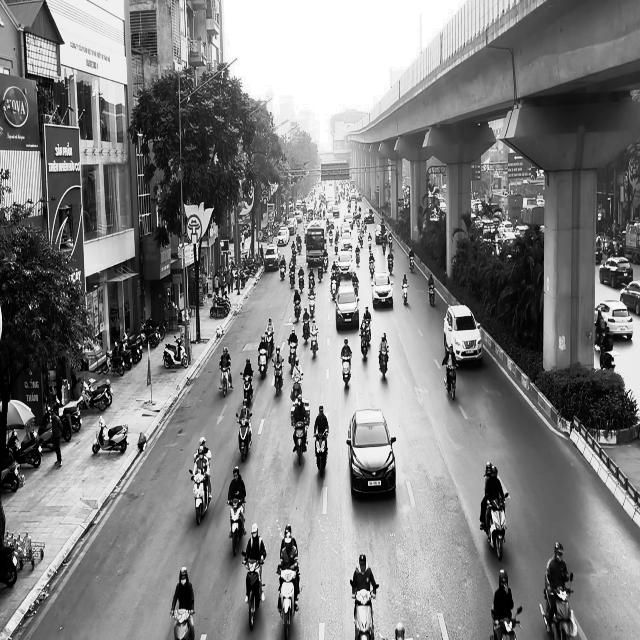car: (346, 408, 396, 498), (371, 271, 394, 308)
motorbike: (540, 572, 577, 639), (242, 556, 266, 630), (276, 565, 300, 639), (482, 492, 508, 560), (350, 579, 378, 639), (92, 416, 129, 455), (188, 468, 212, 526), (227, 496, 246, 556), (490, 606, 522, 640), (235, 411, 252, 462), (594, 329, 615, 370), (291, 418, 308, 466), (170, 608, 195, 639), (314, 430, 328, 477), (443, 362, 457, 400), (272, 358, 284, 396), (240, 372, 253, 406), (219, 363, 230, 397), (341, 354, 352, 387), (378, 346, 389, 378), (359, 328, 369, 360), (309, 327, 319, 358), (258, 348, 268, 378), (288, 340, 297, 373), (401, 280, 408, 304), (428, 282, 435, 306), (409, 254, 415, 273)
